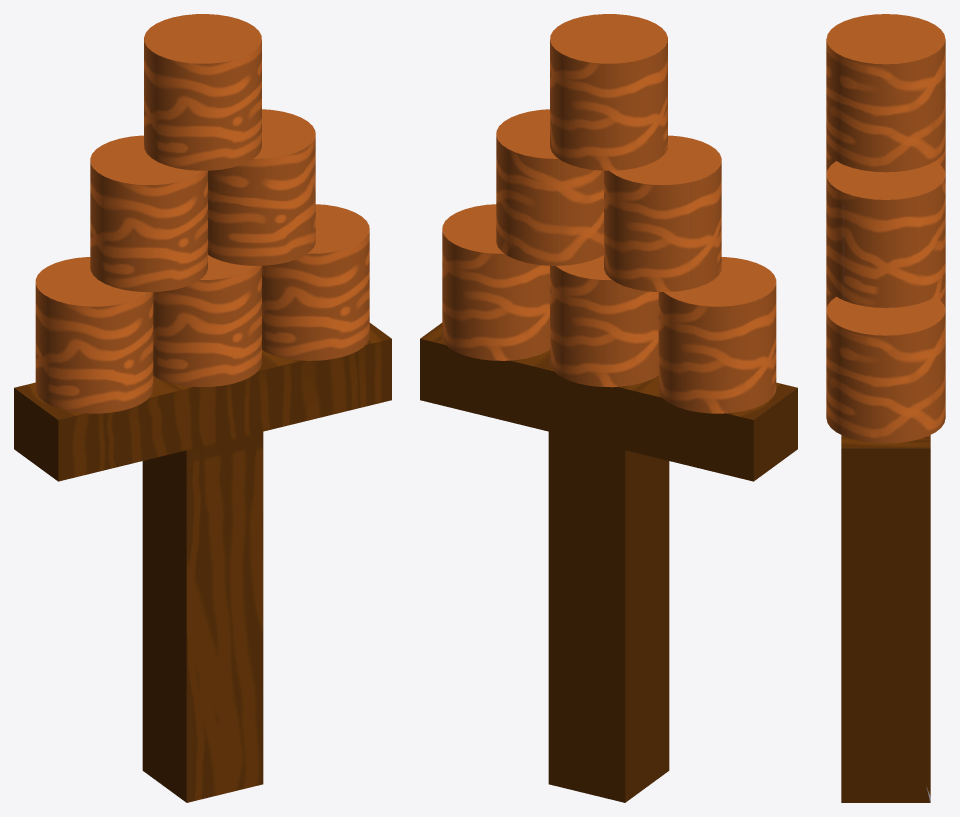
Rendered from Level1-1.fbx.
The picture shows the model from 3 angles, left to right: view 1: azimuth 30°, elevation 25°; view 2: azimuth 150°, elevation 25°; view 3: azimuth 270°, elevation 25°; orthographic projection.
Parts seen in each view (by area): view 1: Cube.001, Cylinder.004, Cylinder.001, Cylinder.003, Cylinder.002, Cylinder.005, Cylinder; view 2: Cube.001, Cylinder.004, Cylinder.001, Cylinder.003, Cylinder.002, Cylinder.005, Cylinder; view 3: Cube.001, Cylinder.004, Cylinder.002, Cylinder.005.
Boxes of the visible parts, x1,y1,x2,y2 form: Cube.001: [14, 323, 391, 802]; Cylinder.004: [144, 14, 261, 170]; Cylinder.001: [35, 257, 153, 413]; Cylinder.003: [90, 135, 207, 292]; Cylinder.002: [262, 204, 369, 360]; Cylinder.005: [208, 109, 315, 265]; Cylinder: [153, 255, 261, 387]; Cube.001: [420, 323, 797, 802]; Cylinder.004: [550, 14, 667, 170]; Cylinder.001: [658, 257, 776, 413]; Cylinder.003: [604, 135, 721, 292]; Cylinder.002: [442, 204, 549, 360]; Cylinder.005: [496, 109, 603, 265]; Cylinder: [550, 255, 658, 387]; Cube.001: [841, 435, 930, 802]; Cylinder.004: [826, 14, 945, 172]; Cylinder.002: [826, 296, 945, 443]; Cylinder.005: [826, 161, 945, 307].
Size of the model in its own units: 872 by 1844 by 267.
